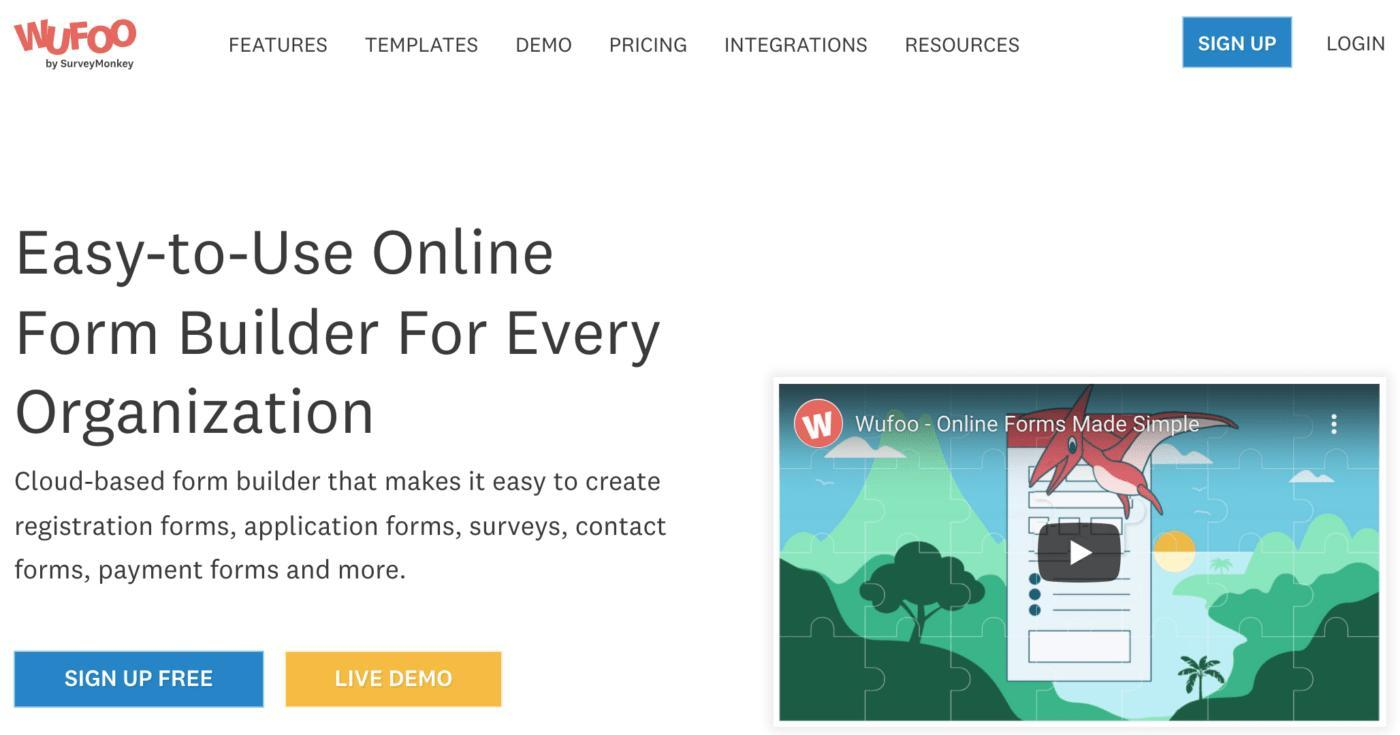button: (14, 651, 264, 708), (286, 653, 506, 710), (1181, 17, 1295, 68)
label: (224, 30, 342, 61), (724, 32, 867, 56), (368, 31, 482, 61), (902, 34, 1025, 59), (613, 32, 687, 64), (1316, 31, 1393, 57), (509, 35, 586, 58)
